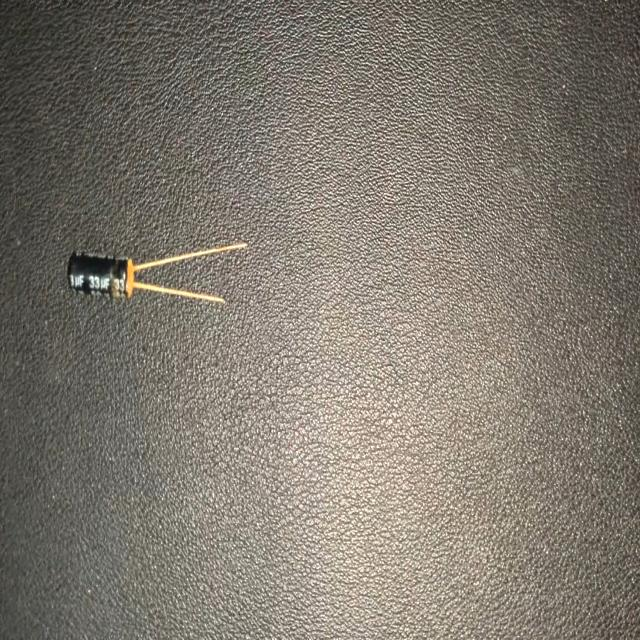defective: (68, 240, 248, 304)
